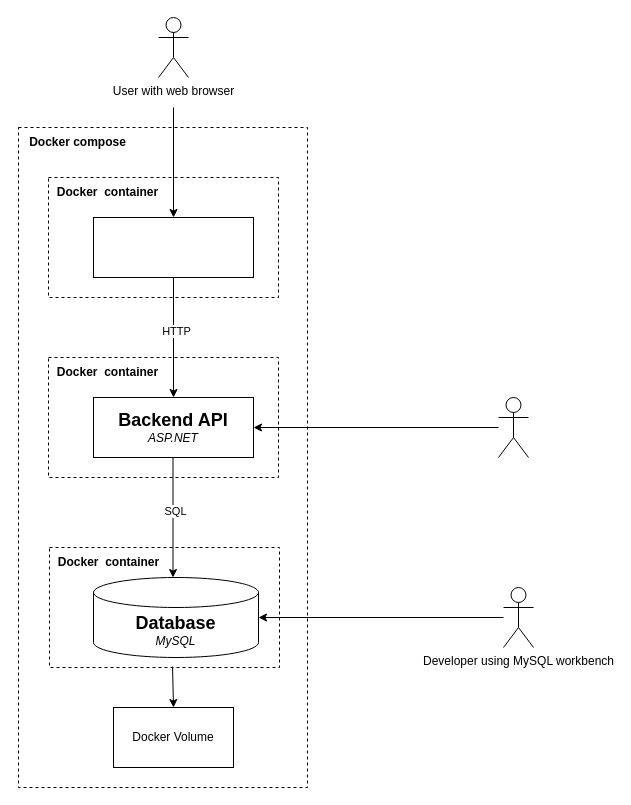
Image size: 631x805. Some labels were removed from this diagram. Each missing label, with the centre of its shape:
"Developer using Swagger" belongs at [513,427].
"Frontend React" belongs at [173,247].
